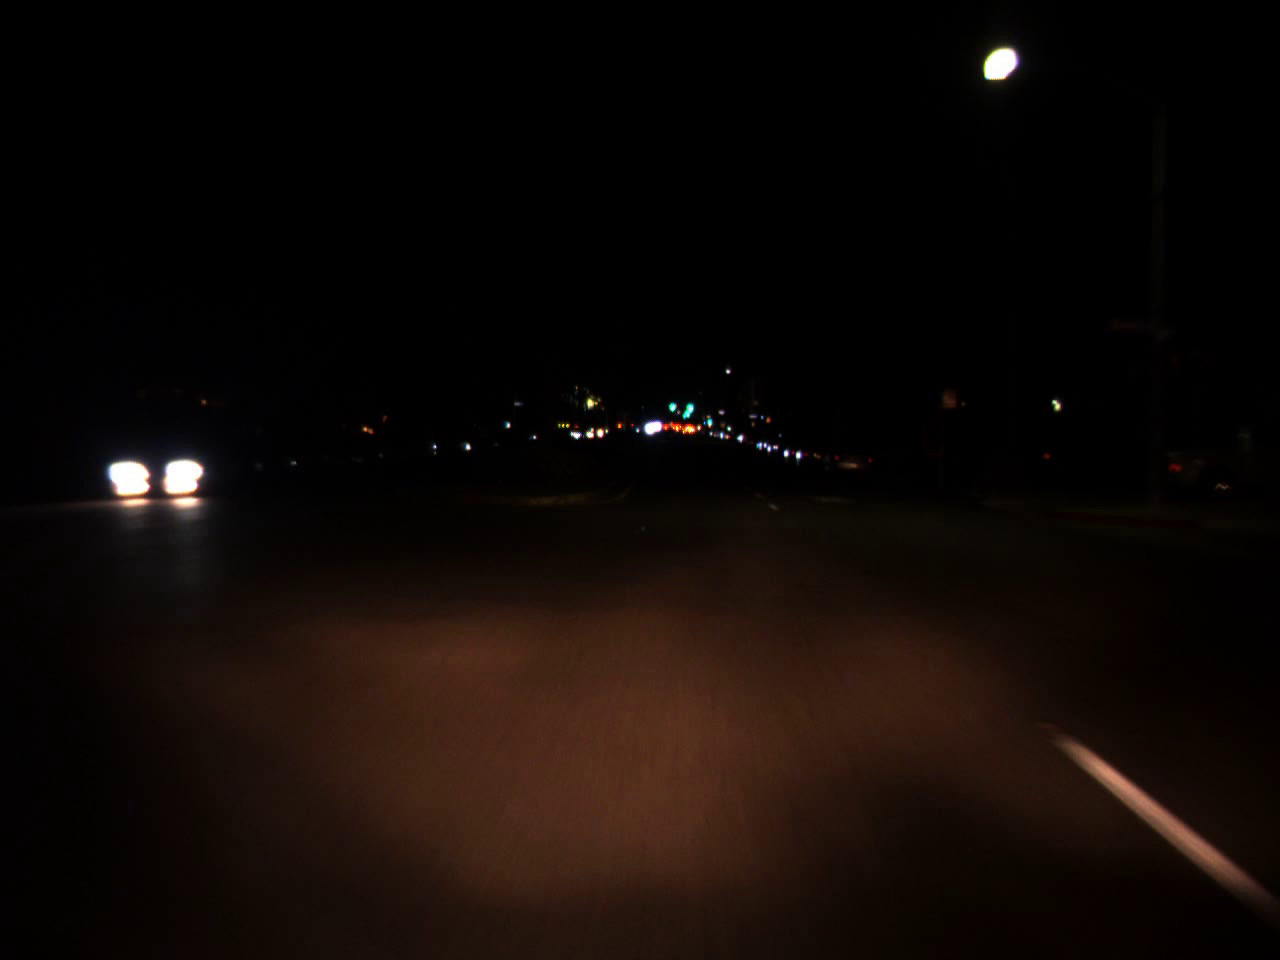go: (681, 390, 695, 417), (667, 392, 677, 416), (706, 414, 713, 426)
